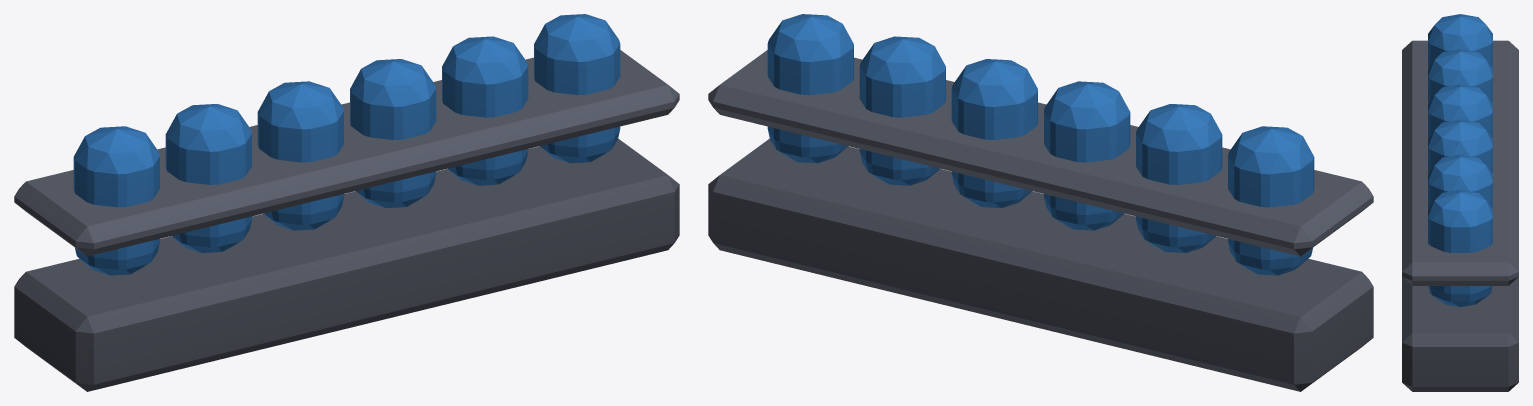
The model's file is cryo_rack.glb.
3 renders of one model, left to right at view 1: azimuth 30°, elevation 25°; view 2: azimuth 150°, elevation 25°; view 3: azimuth 270°, elevation 25°, orthographic. The views are drawn at different scales.
Visible parts, largest first — view 1: cryo_rack; view 2: cryo_rack; view 3: cryo_rack.
Part boxes in pixels (bbox=[...]): cryo_rack: bbox=[14, 14, 679, 391]; cryo_rack: bbox=[708, 14, 1373, 391]; cryo_rack: bbox=[1402, 14, 1518, 391].
Bounding box in the file's own units: 0.42 × 0.15 × 0.09.
1 material, 1 textured.
